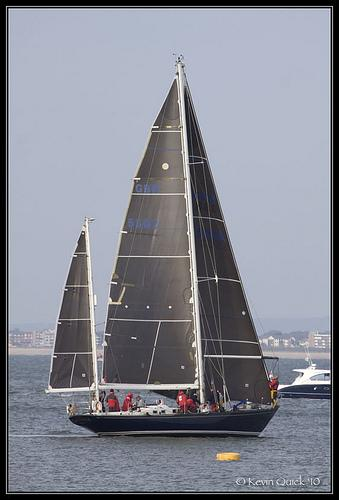Ship: (47, 63, 278, 440), (277, 364, 333, 399)
